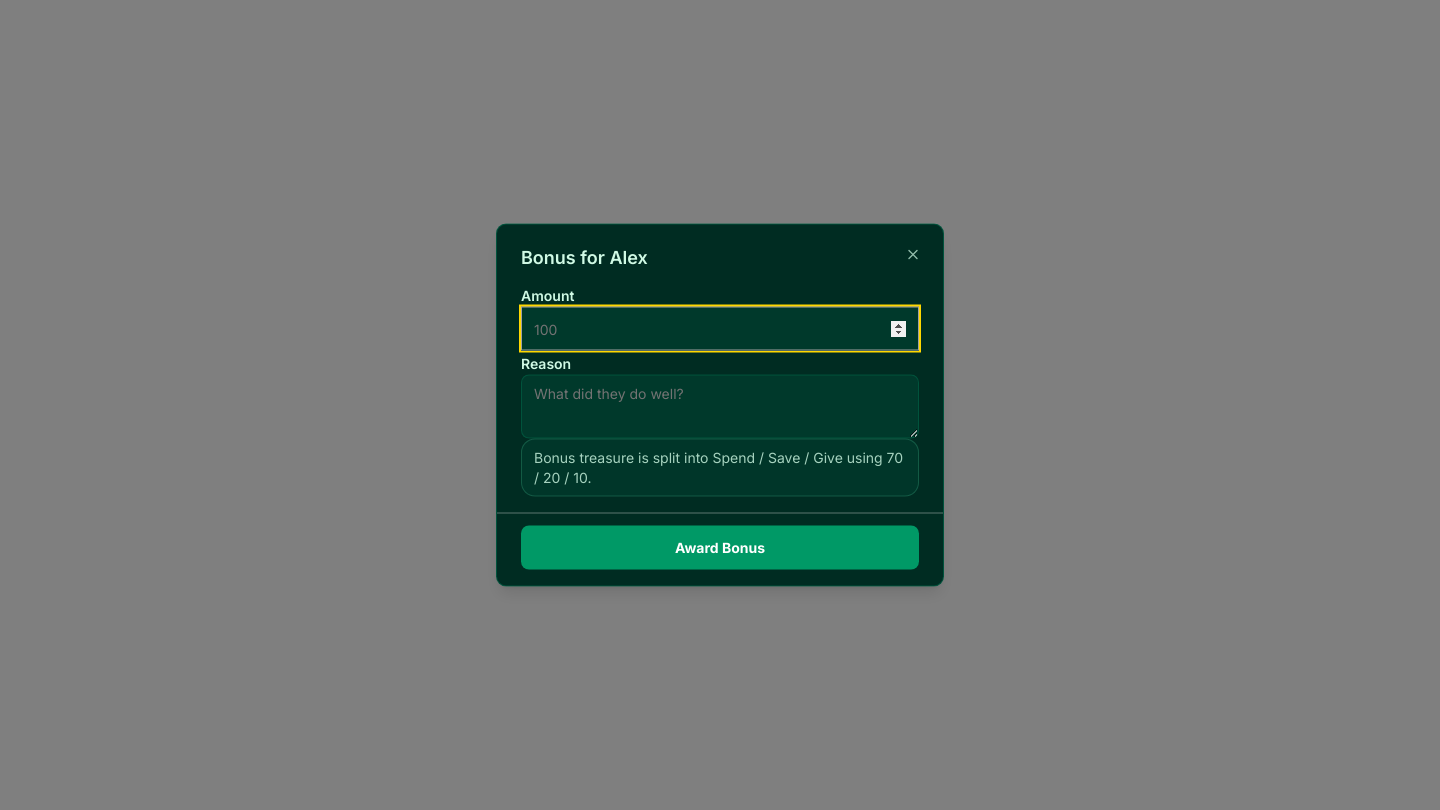
Test case: BonusDialogBody — validation gate › submitting amount = 0 shows the same inline error (no mutation)
Type "0" into the number field with placeholder "100" at x=720, y=328, box [521,306,919,350]
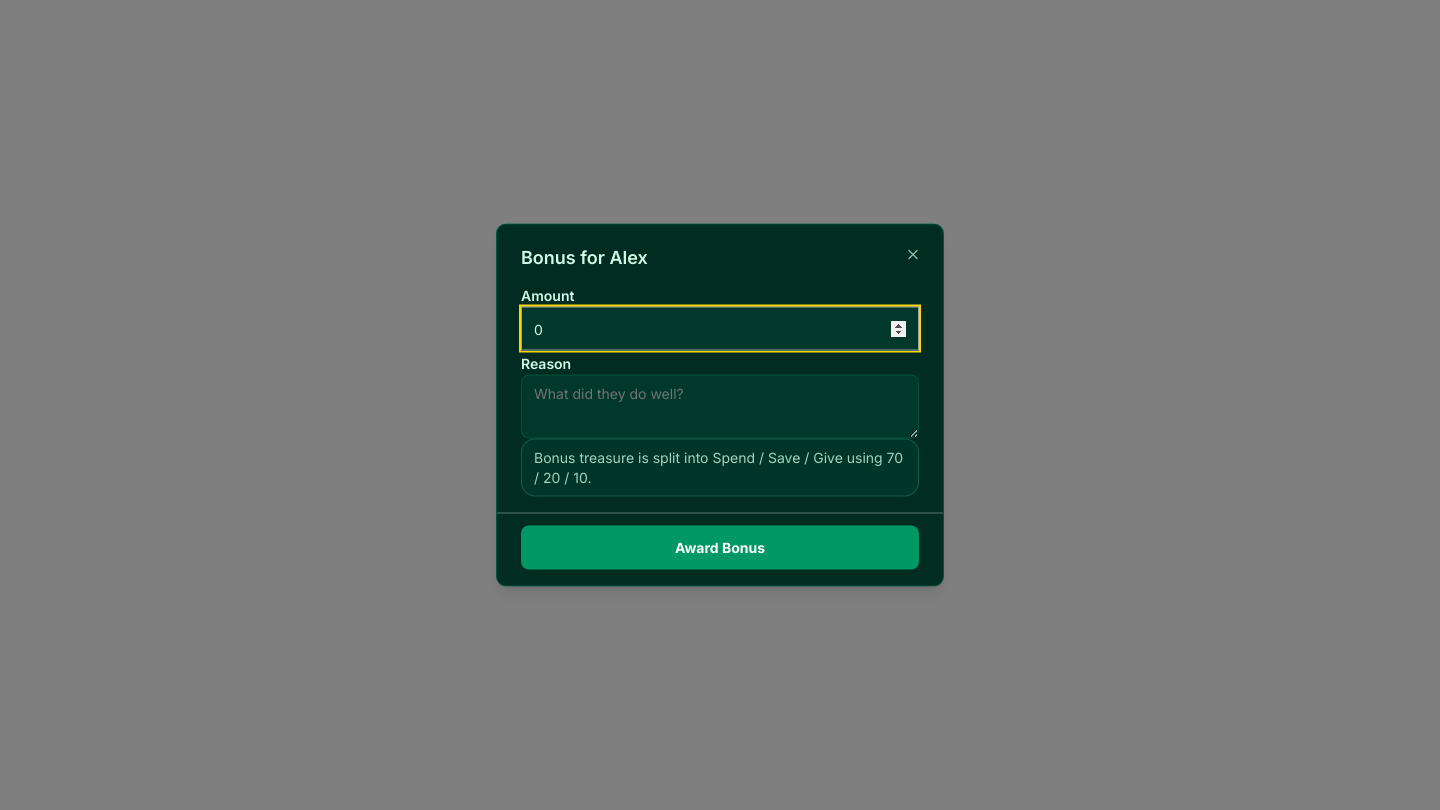
Submit the form with placeholder "100", box [497,224,943,586]
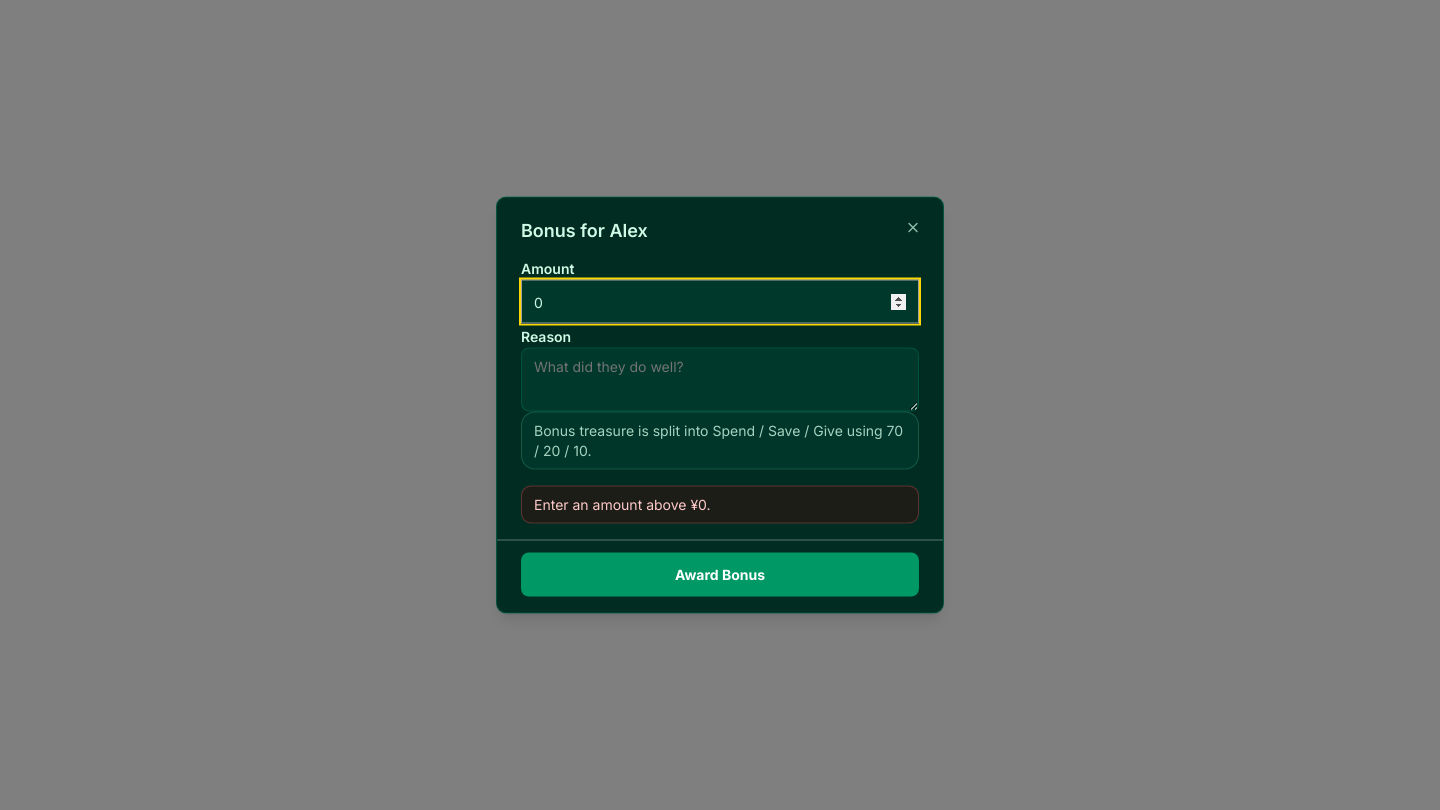
Result: the text "Enter an amount above ¥0." is shown at [521,486,919,524]
